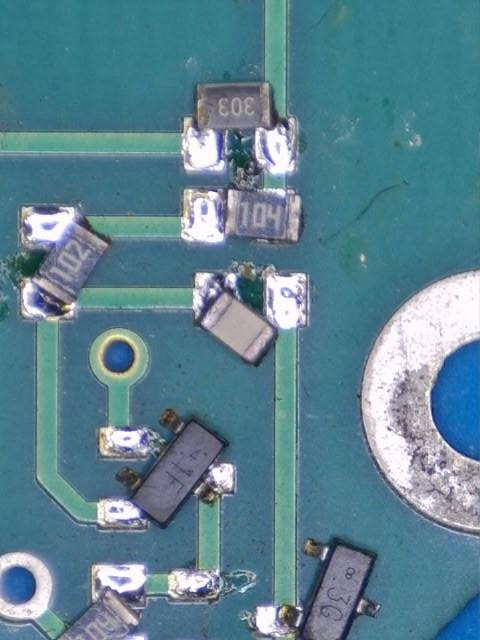pcb_defect: (97, 407, 237, 529), (254, 538, 383, 640), (194, 268, 309, 366), (18, 204, 112, 321), (182, 80, 297, 173), (54, 564, 147, 640), (181, 188, 302, 244)
